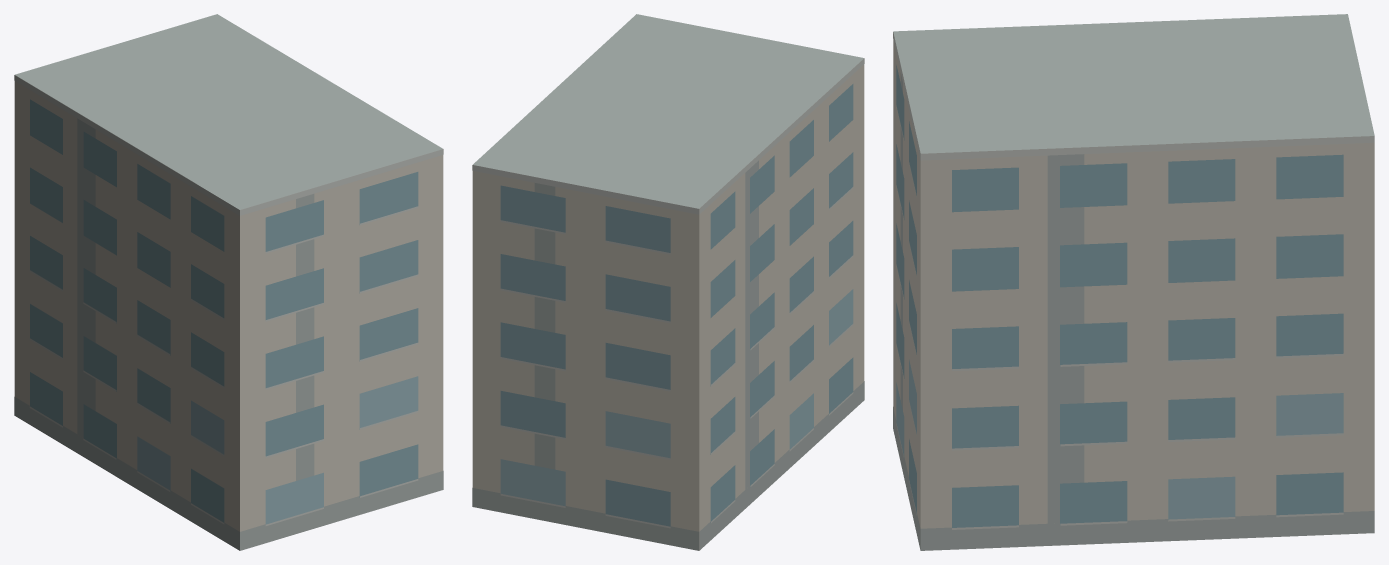
File: survey-upis-32884524.glb
3 views of the same model, side by side, from view 1: azimuth 30°, elevation 25°; view 2: azimuth 150°, elevation 25°; view 3: azimuth 270°, elevation 25° (orthographic). The views are drawn at different scales.
Visible parts, largest first — view 1: survey-upis-32884524.tmp; view 2: survey-upis-32884524.tmp; view 3: survey-upis-32884524.tmp.
Boxes of the visible parts, x1,y1,x2,y2 form: survey-upis-32884524.tmp: [14, 14, 443, 550]; survey-upis-32884524.tmp: [472, 14, 864, 550]; survey-upis-32884524.tmp: [893, 14, 1374, 550].
Bounding box in the file's own units: 10.76 × 14.25 × 15.67.
